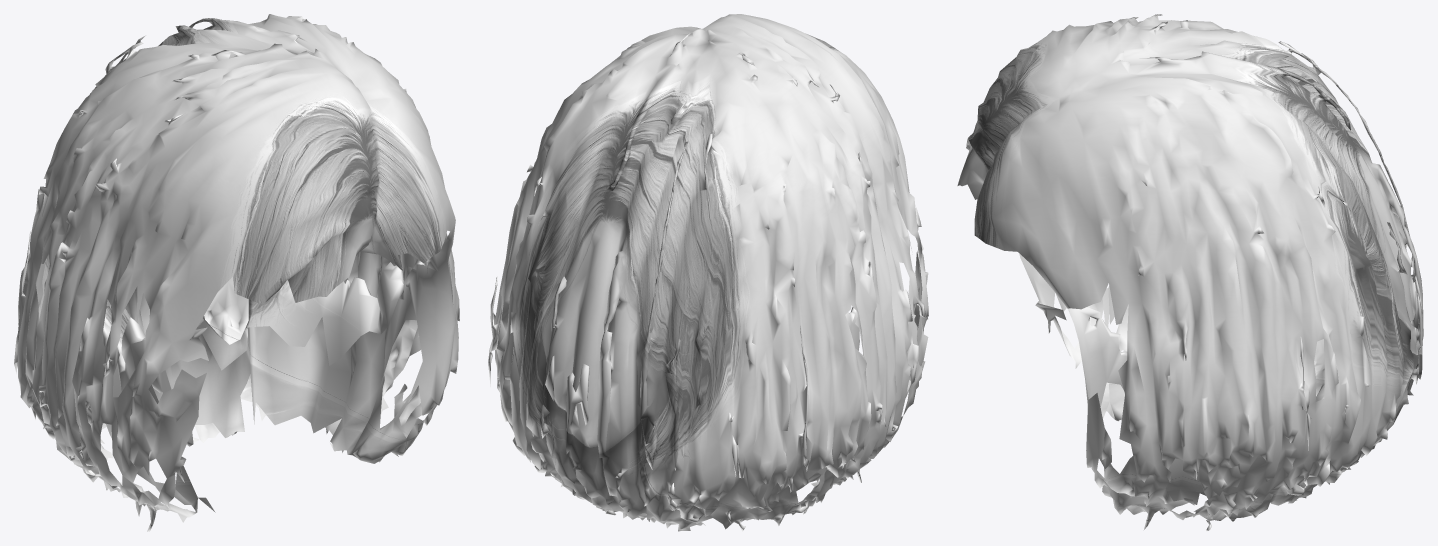
The model's file is hair_bob.glb.
3 views of the same model, side by side, from view 1: azimuth 30°, elevation 25°; view 2: azimuth 150°, elevation 25°; view 3: azimuth 270°, elevation 25° (orthographic). The views are drawn at different scales.
Parts seen in each view (by area): view 1: hair; view 2: hair; view 3: hair.
Part boxes in pixels (x1,y1,x2,y2): hair: (14, 14, 459, 531); hair: (488, 14, 928, 531); hair: (957, 14, 1423, 531).
Bounding box in the file's own units: 0.2664 × 0.296 × 0.2817.
Materials: 1 (1 with a texture image).
